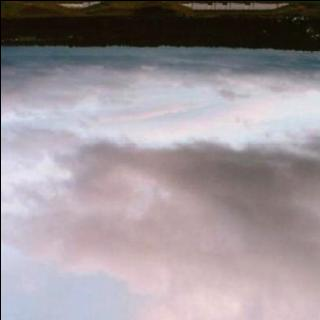Stratus: (0, 47, 320, 320)
